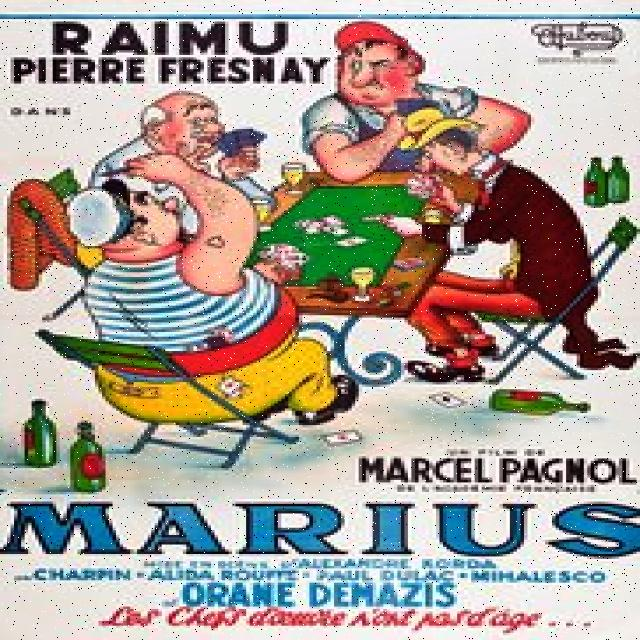movie-judul: (8, 488, 640, 568)
picture: (21, 29, 618, 432)
